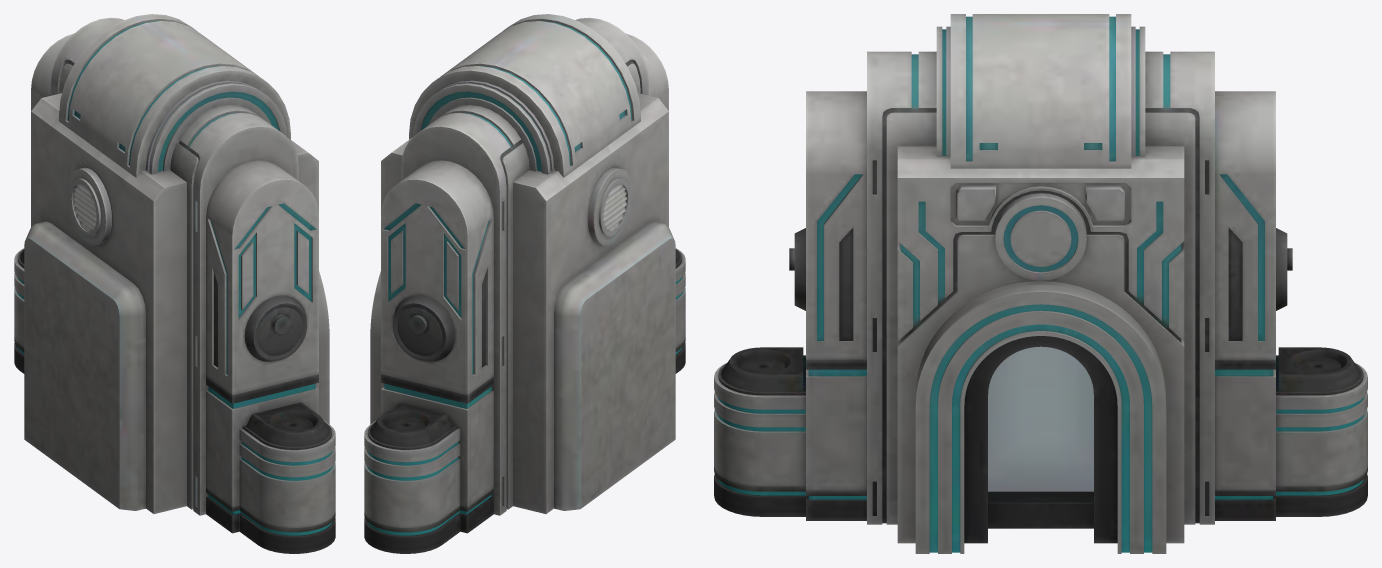
Rendered from SM_BlastFurnaceAncient_3aabf2.glb.
3 views of the same model, side by side, from view 1: azimuth 30°, elevation 25°; view 2: azimuth 150°, elevation 25°; view 3: azimuth 270°, elevation 25° (orthographic). The views are drawn at different scales.
Size of the model in its own units: 1.98 by 3.75 by 4.7.
2 materials, 2 textured.
